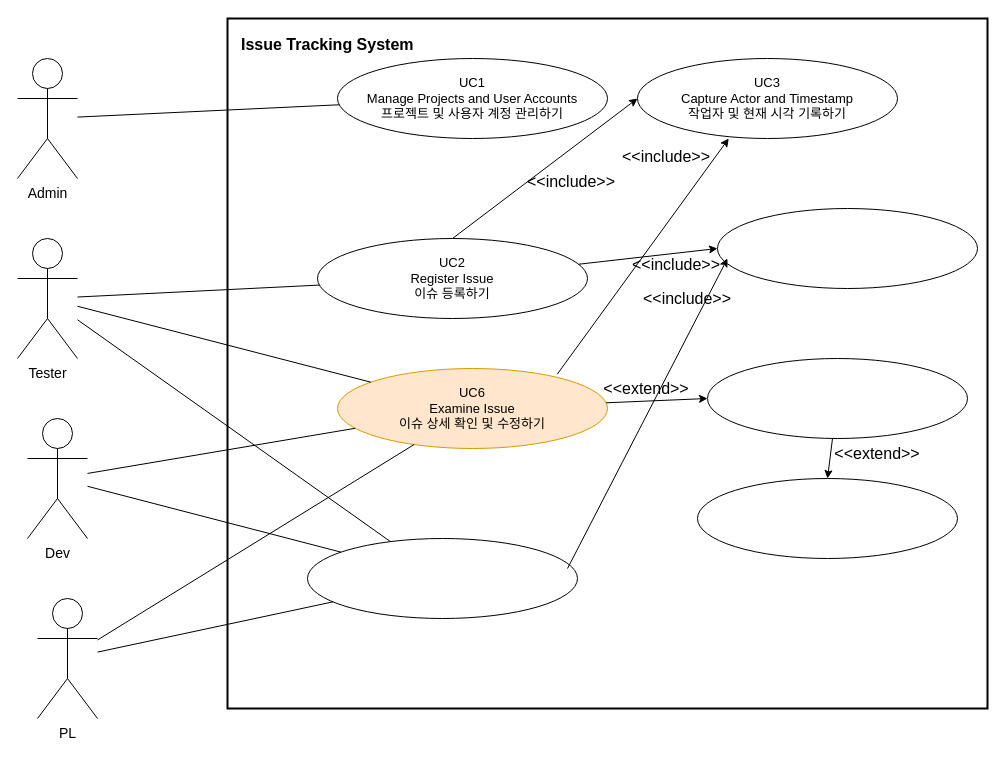
Image size: 1006x759. Some labels were removed from this diagram. Here are the shapes that lost their labels. From the top down, the box of each, then its label:
(716, 208, 978, 288): UC5 Validate Issue State Transition 이슈 상태 변경 가능 여부 확인하기
(706, 358, 968, 438): UC7 Recommend Assignee Candidates 담당자 후보 추천하기
(696, 478, 958, 558): UC8 Trigger Recommendation Learning 추천 학습 수동 실행하기
(306, 538, 578, 618): UC4 Discover and Filter Issues 이슈 조회 및 검색하기
